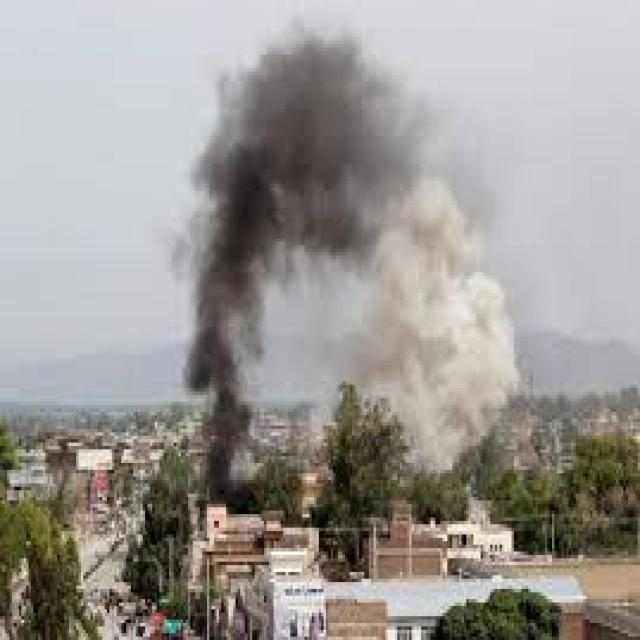Smoke: (175, 38, 524, 474)
